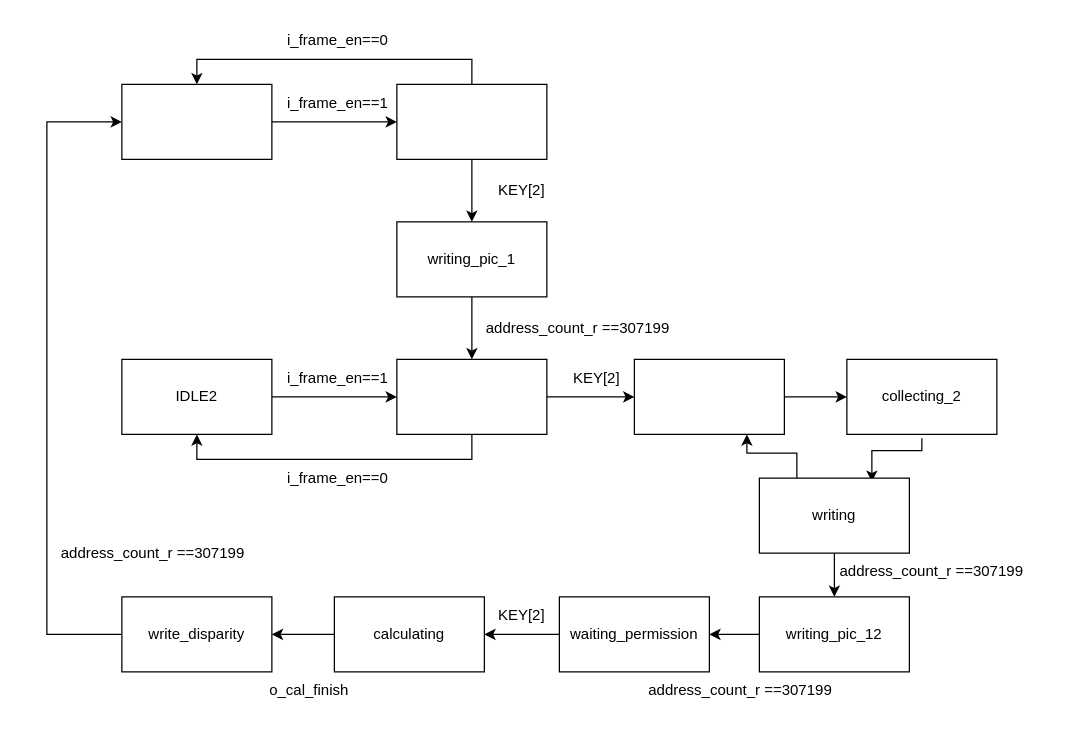
This 1084x730 diagram has some shape labels left out. The centre of each missing label's shape, as x and y in pixels:
collecting_1: the point at 708,396
IDLE: the point at 196,121
Snapping_1: the point at 471,121
Snapping_2: the point at 471,396
